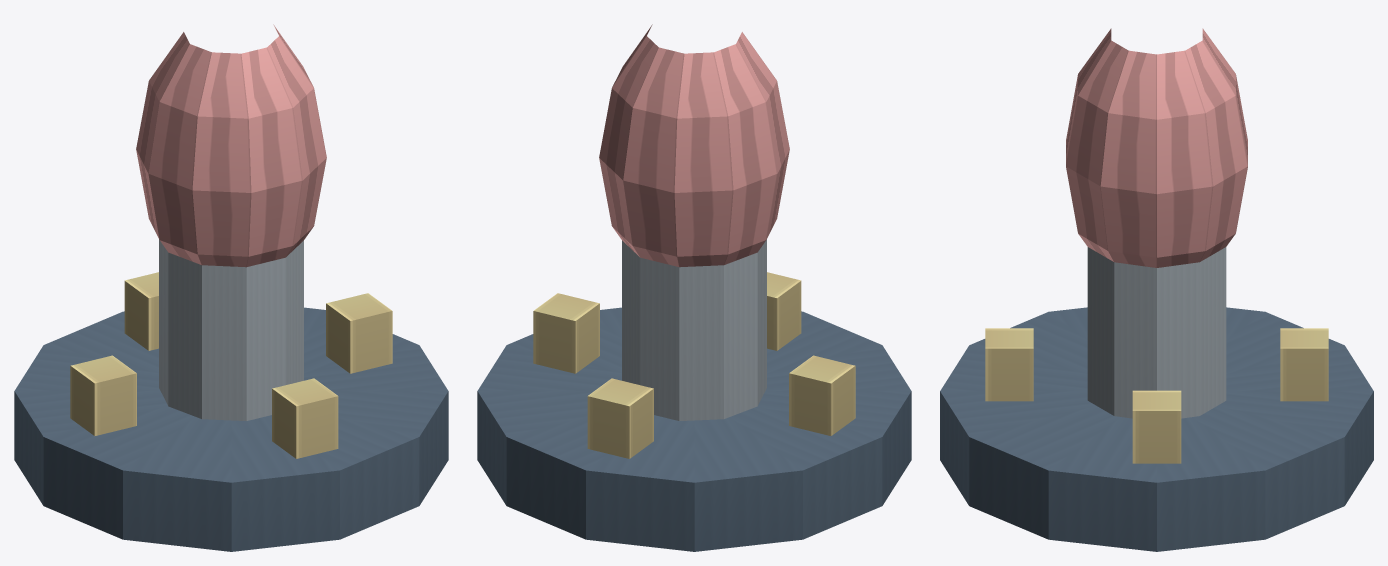
Rendered from save_totem.glb.
3 views of the same model, side by side, from view 1: azimuth 30°, elevation 25°; view 2: azimuth 150°, elevation 25°; view 3: azimuth 270°, elevation 25° (orthographic).
Parts seen in each view (by area): view 1: save_totem; view 2: save_totem; view 3: save_totem.
Boxes of the visible parts, x1,y1,x2,y2 form: save_totem: (14, 24, 448, 551); save_totem: (477, 24, 911, 551); save_totem: (940, 28, 1373, 551).
Bounding box in the file's own units: 2.5 × 2.83 × 2.5.
1 material, 1 textured.
